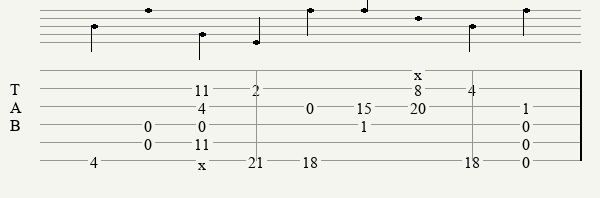0: (144, 117, 156, 132), (144, 135, 156, 150), (198, 117, 210, 132), (306, 99, 318, 114), (522, 117, 534, 132), (522, 135, 534, 150), (522, 153, 534, 168)
1: (360, 117, 372, 132), (522, 99, 534, 114)
11: (194, 135, 214, 150), (194, 81, 214, 96)
15: (356, 99, 376, 114)
18: (302, 153, 322, 168), (464, 153, 484, 168)
2: (252, 81, 264, 96)
20: (410, 99, 430, 114)
21: (248, 153, 268, 168)
4: (90, 153, 102, 168), (198, 99, 210, 114), (468, 81, 480, 96)
8: (414, 81, 426, 96)
x: (198, 155, 210, 166), (414, 65, 426, 76)
